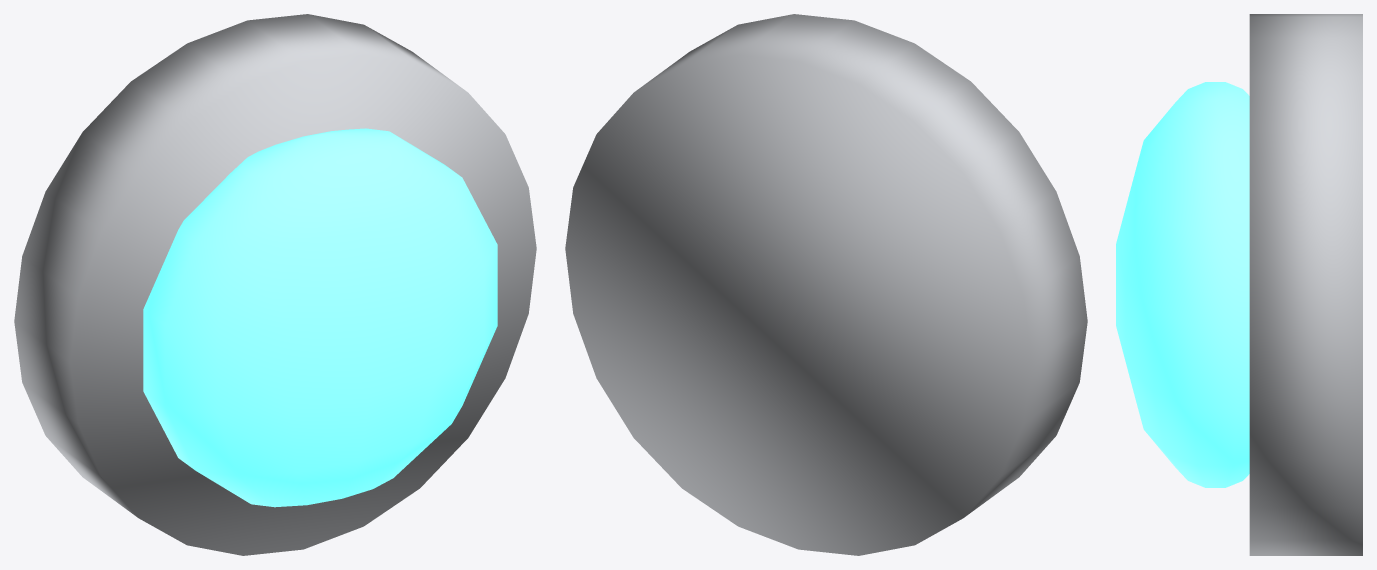
Rendered from wall_light_round_lamp.glb.
3 views of the same model, side by side, from view 1: azimuth 30°, elevation 25°; view 2: azimuth 150°, elevation 25°; view 3: azimuth 270°, elevation 25° (orthographic).
Parts seen in each view (by area): view 1: GD_wall_light_round_lamp__m0, GD_wall_light_round_lamp__m1; view 2: GD_wall_light_round_lamp__m0; view 3: GD_wall_light_round_lamp__m0, GD_wall_light_round_lamp__m1.
Part boxes in pixels (x1=…): GD_wall_light_round_lamp__m0: x1=14, y1=14, x2=536, y2=555; GD_wall_light_round_lamp__m1: x1=143, y1=128, x2=497, y2=507; GD_wall_light_round_lamp__m0: x1=565, y1=14, x2=1087, y2=555; GD_wall_light_round_lamp__m0: x1=1249, y1=14, x2=1362, y2=555; GD_wall_light_round_lamp__m1: x1=1116, y1=82, x2=1249, y2=487.
Size of the model in its own units: 0.24 by 0.24 by 0.1089.
